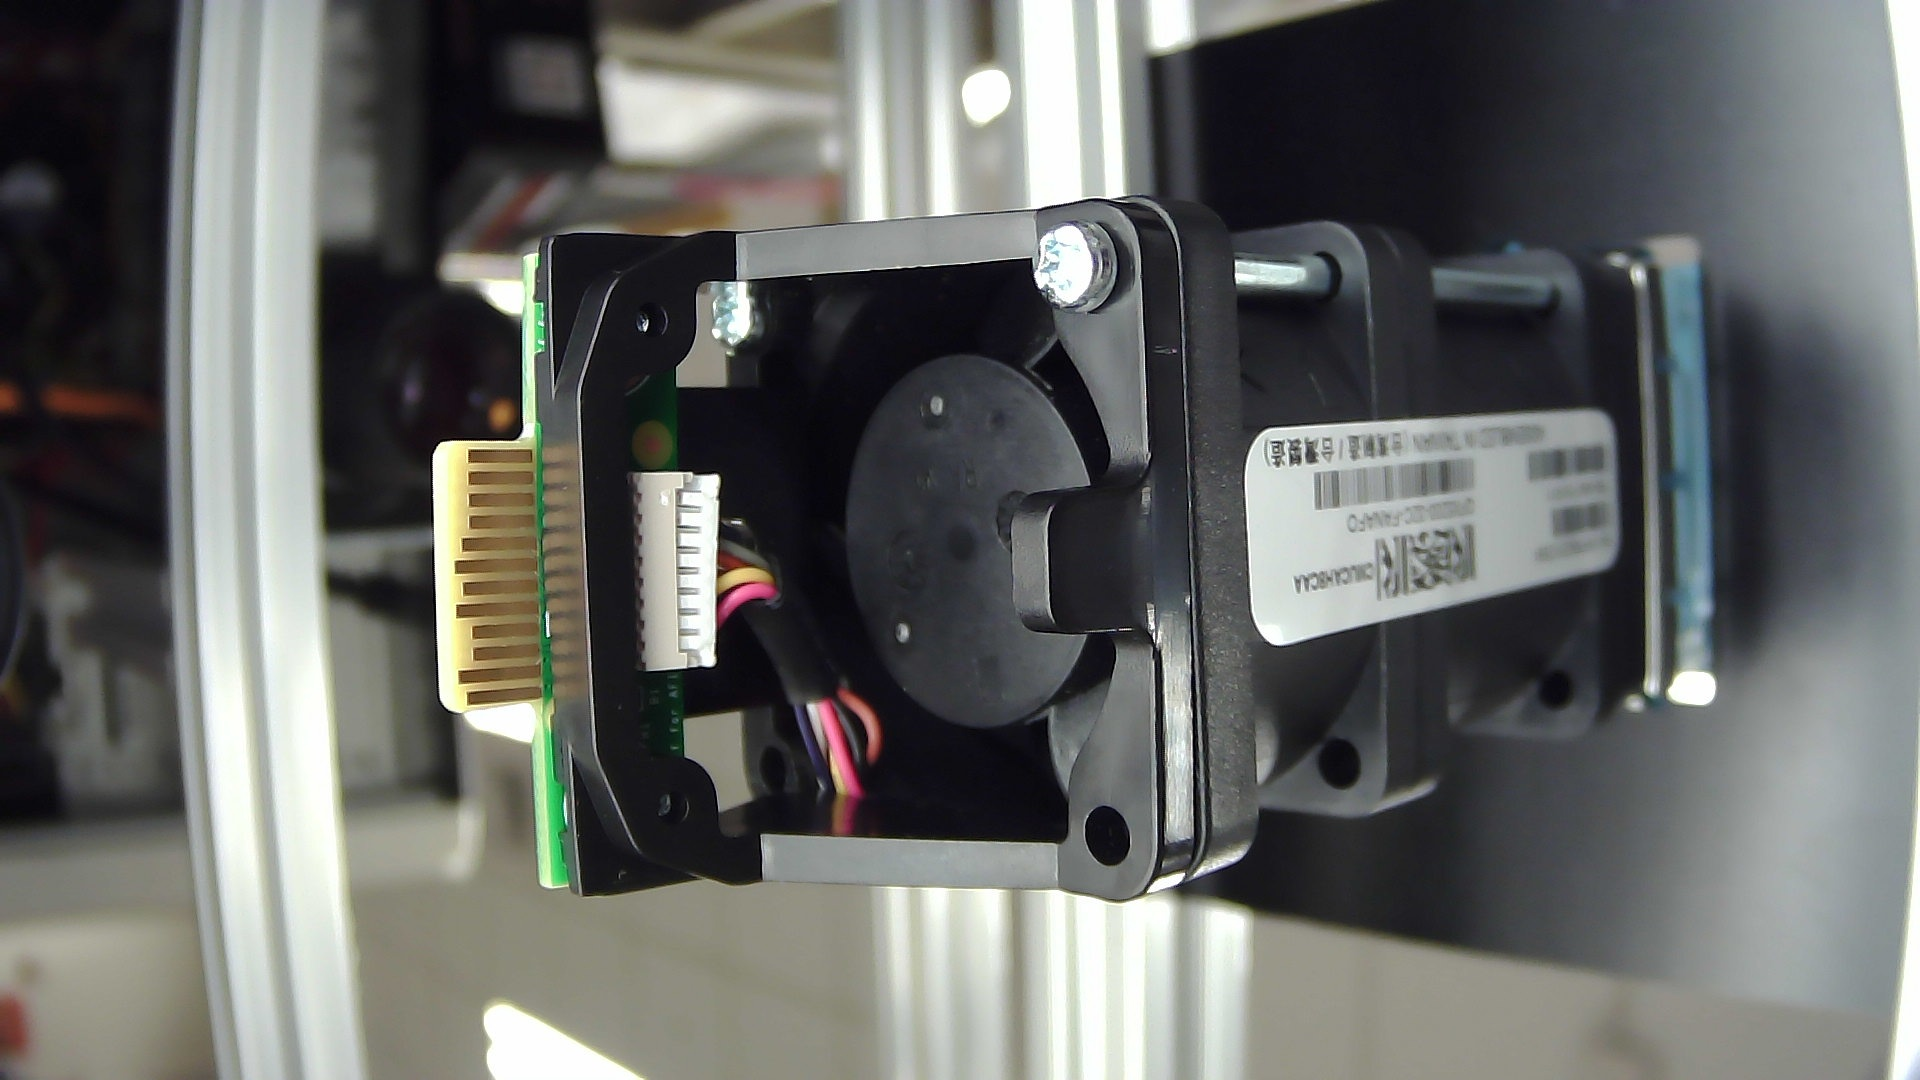8_2: (663, 462, 690, 667)
